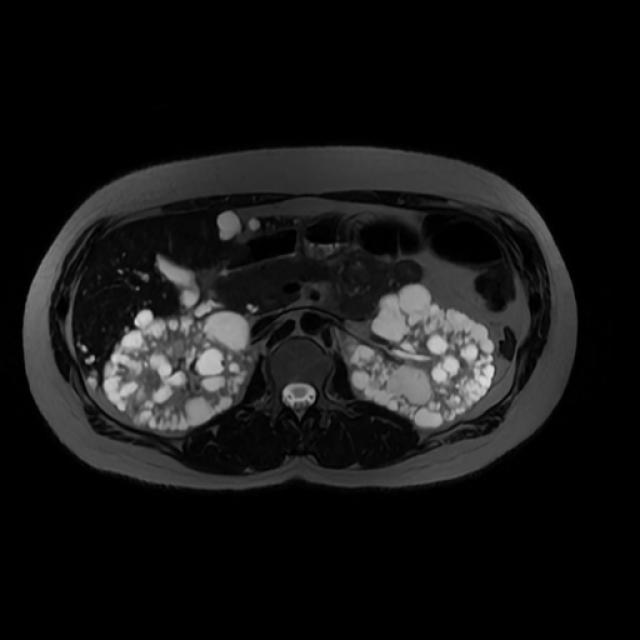sag: (102, 311, 261, 434)
sol: (346, 283, 495, 428)
